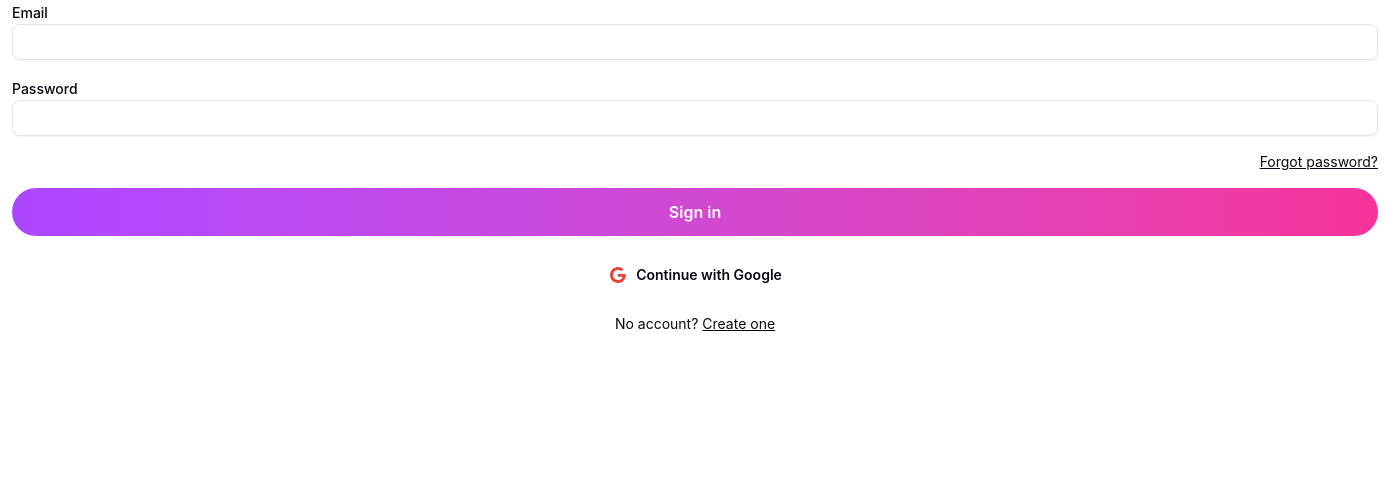
Test: LoginForm › shows a friendly message when resending is rate limited
This screenshot has width=1390, height=492.
Type "a@b.com" into the field labelled "Email" at (695, 42), box 12,24 -> 1378,60
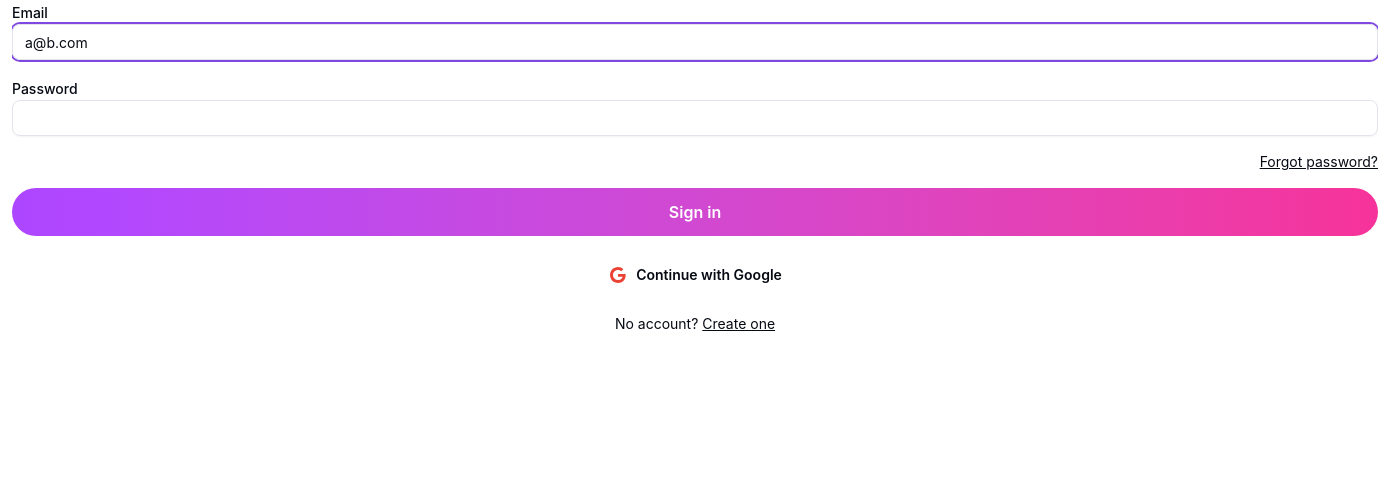
Type "secret123" into the password field labelled "Password" at (695, 118), box 12,100 -> 1378,136
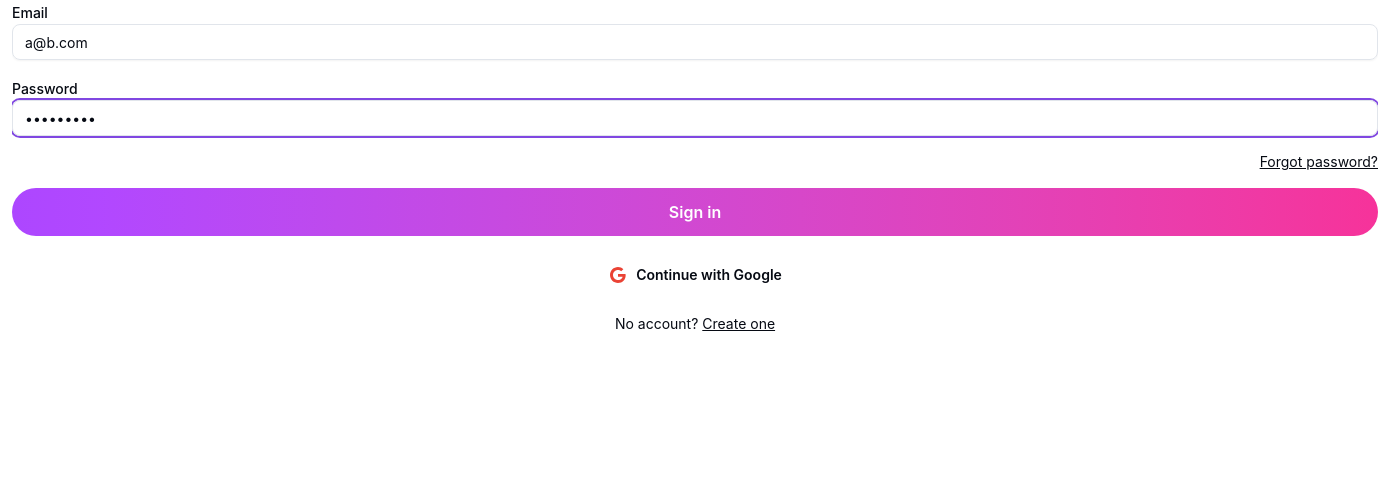
Click the button "Sign in" at (695, 212), box 12,188 -> 1378,236
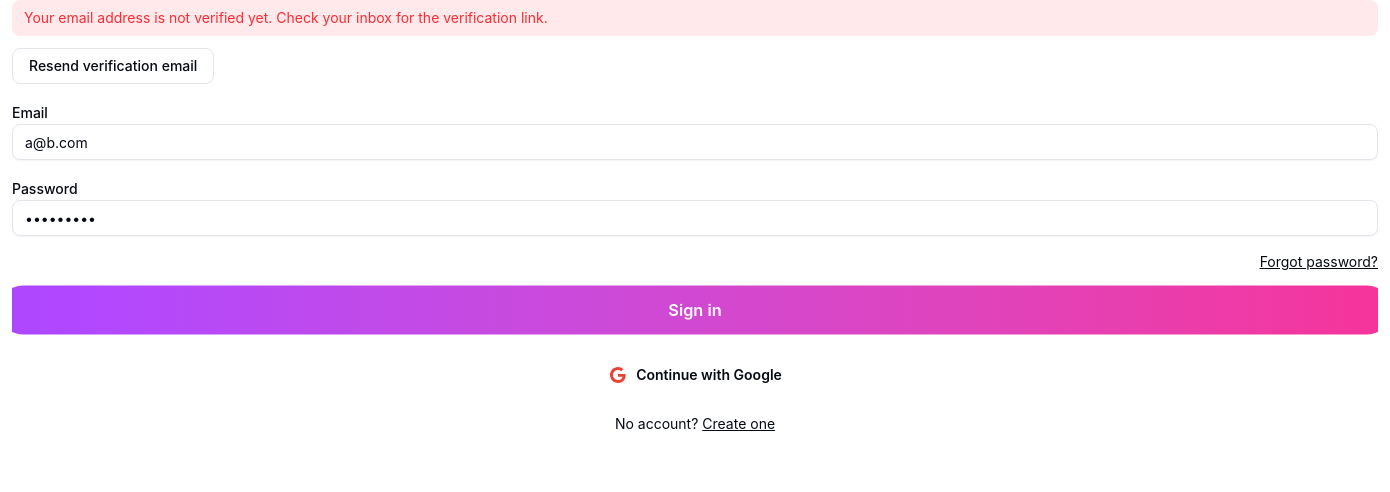
Click the button "Resend verification email" at (113, 66), box 12,48 -> 214,84
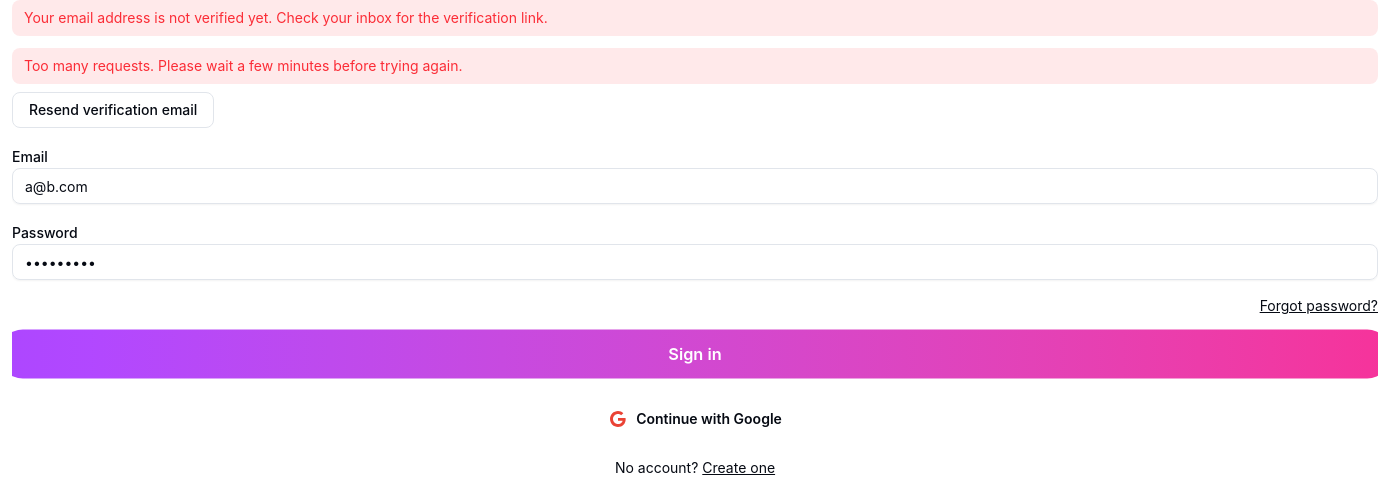
Result: the text "Too many requests. Please wait a few minutes before trying again." is shown at 12,48 -> 1378,84
